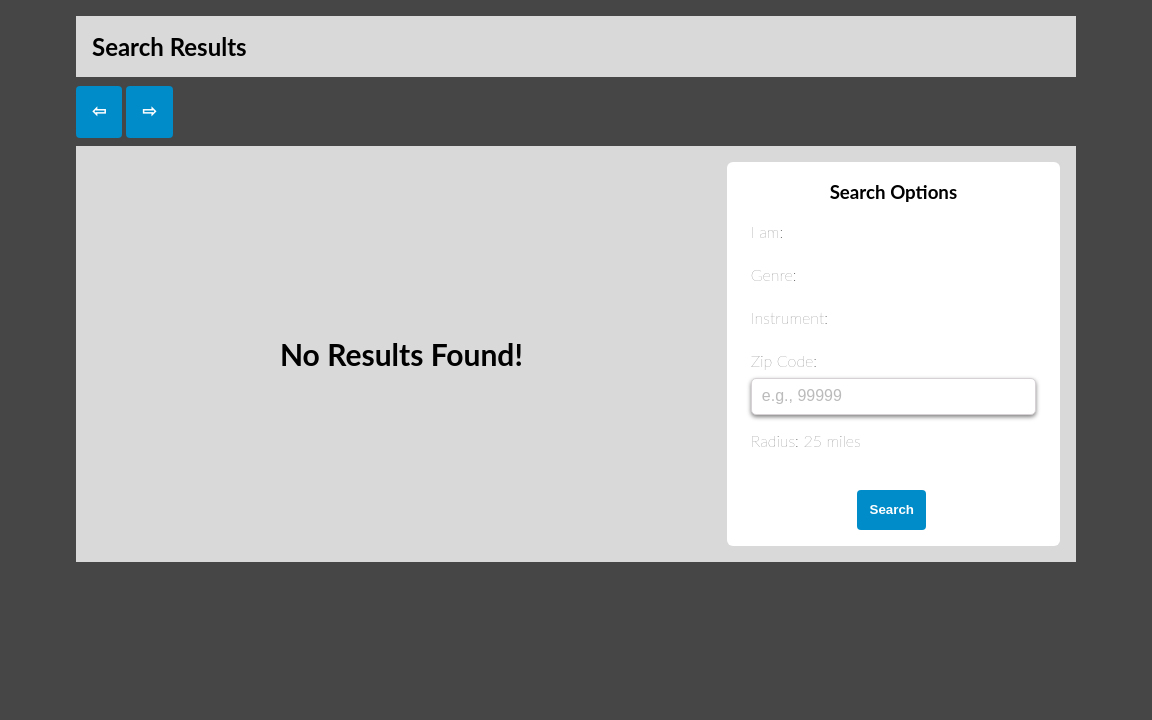
<SearchPage/> component › Error message is correctly rendered on error
What coordinates should you click on to do the following:
click the button with class "update-search-button"
I would click on:
 (892, 510)
Its box is [857,490,926,530].
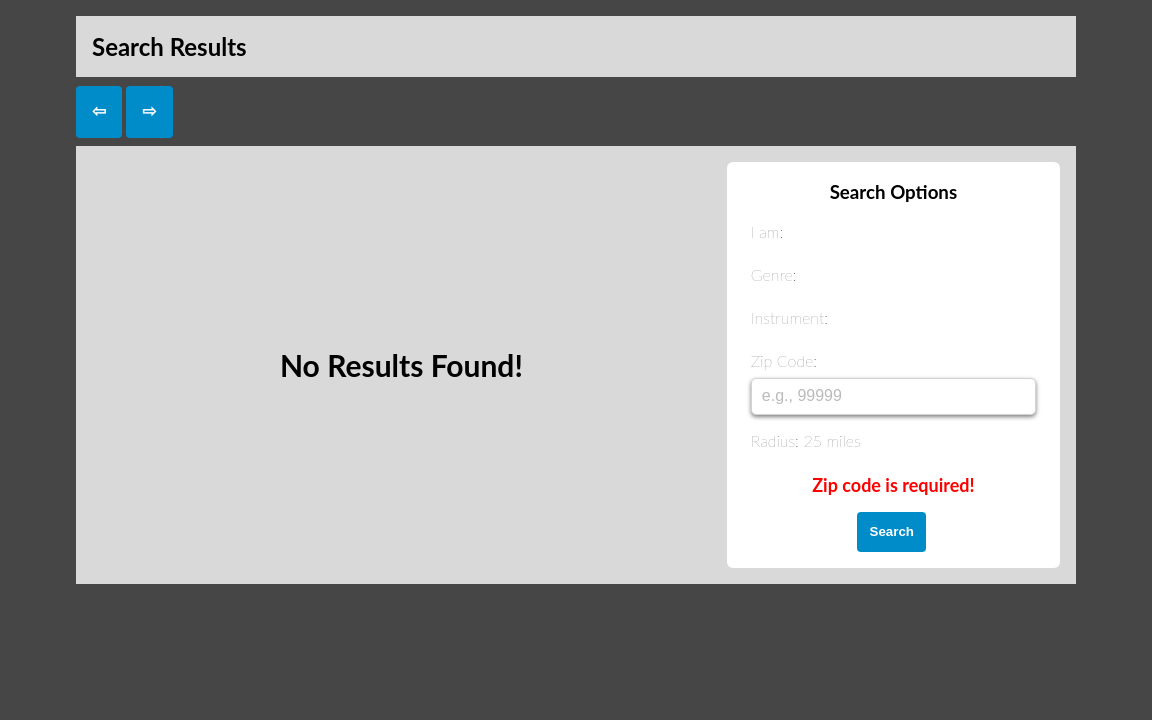
Check: the text "Zip code is required!" is shown, box [812,474,974,496]
